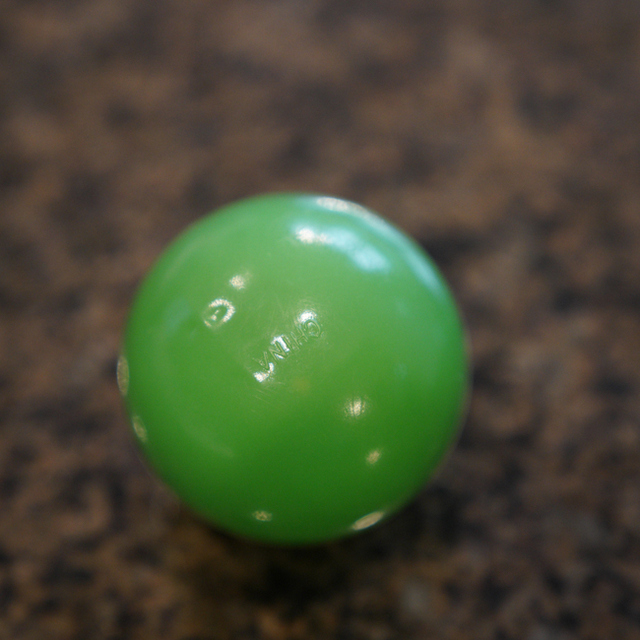Ball: (114, 194, 464, 545)
